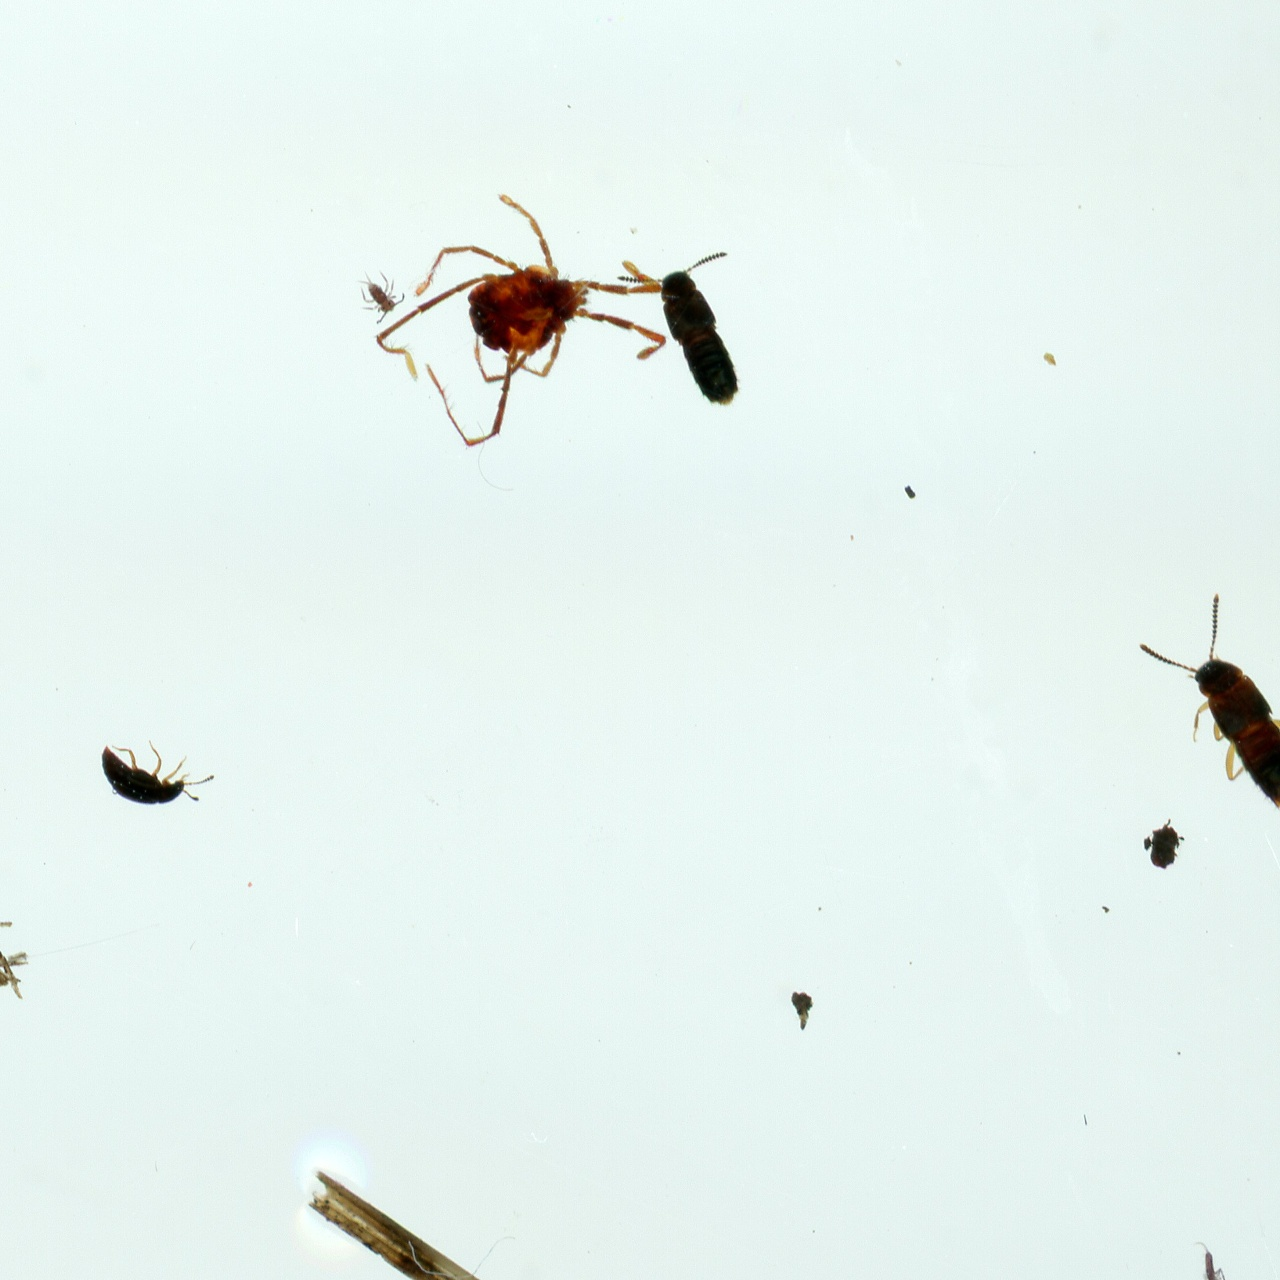arthropod: (348, 159, 690, 465), (1114, 568, 1280, 853), (610, 236, 779, 438), (90, 733, 224, 821), (339, 256, 411, 329), (1178, 1217, 1246, 1280)
